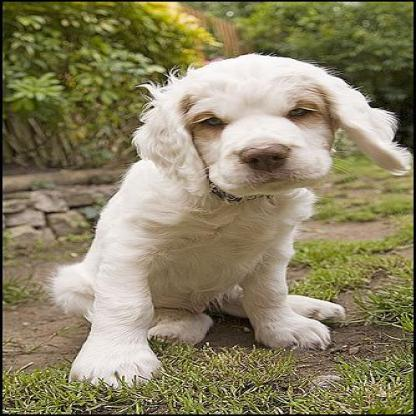clumber: (49, 53, 412, 392)
